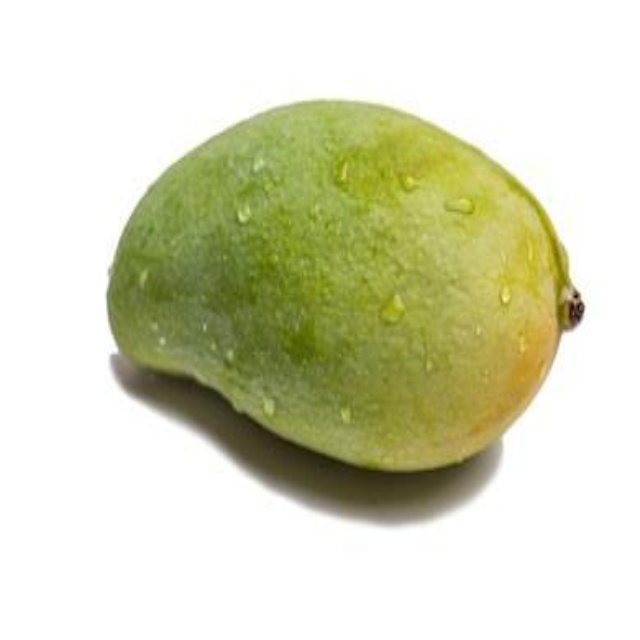mango: (105, 93, 575, 476)
